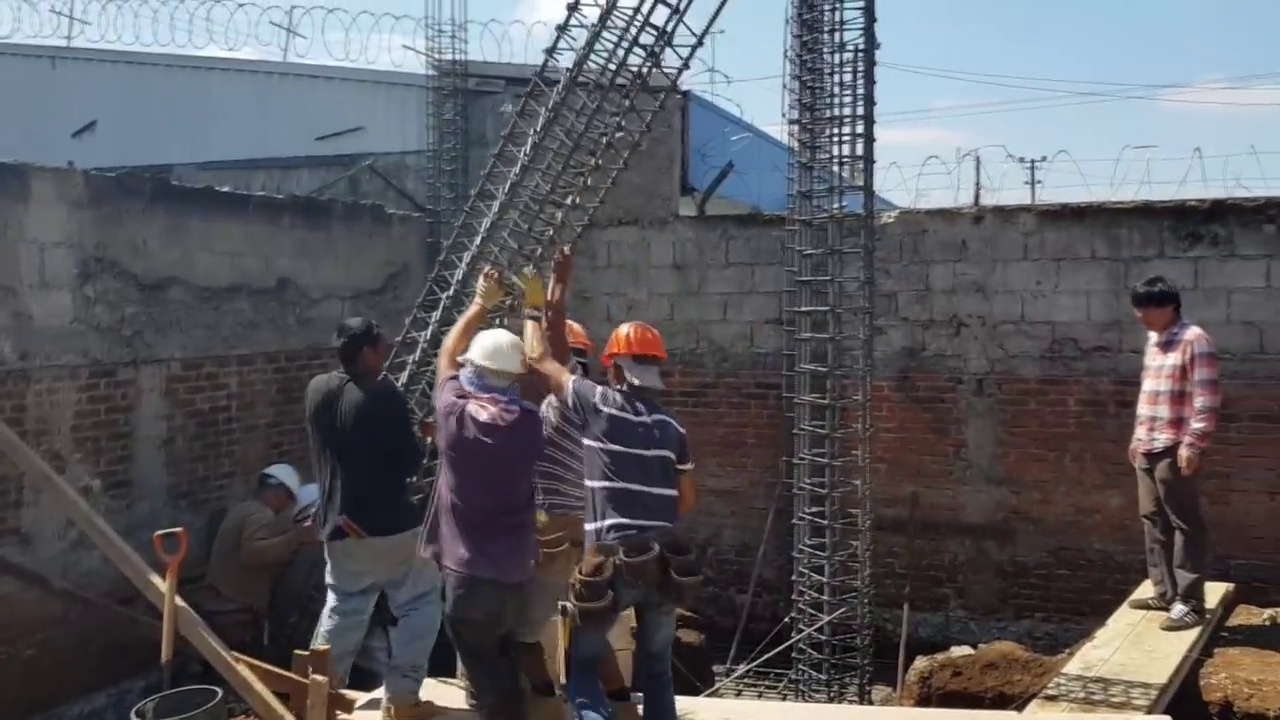helmet: (454, 327, 529, 377), (599, 321, 671, 372), (261, 462, 299, 505), (558, 317, 593, 353)
helmet-off: (332, 320, 387, 385), (1143, 278, 1192, 337)
helmet-on: (453, 327, 528, 411), (597, 321, 673, 397), (245, 461, 299, 518), (559, 318, 592, 378)
person: (524, 295, 699, 710), (430, 268, 557, 706), (308, 320, 444, 717), (1129, 275, 1228, 651), (525, 276, 594, 658), (207, 460, 308, 647)
